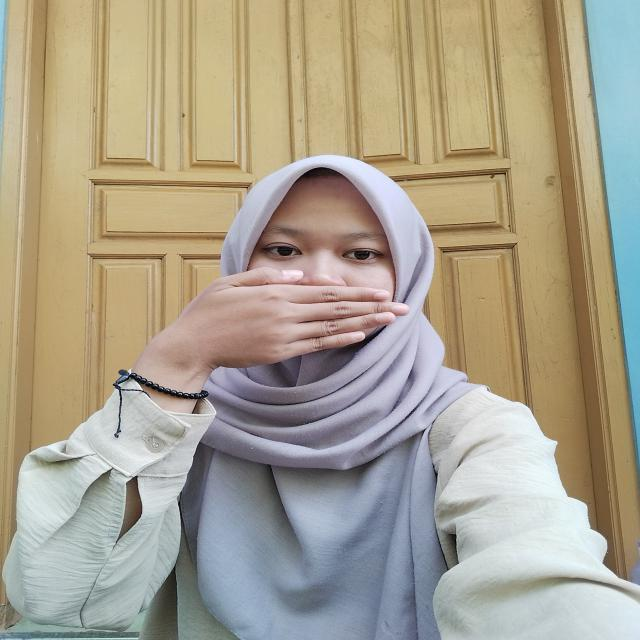buruk: (98, 267, 413, 399)
